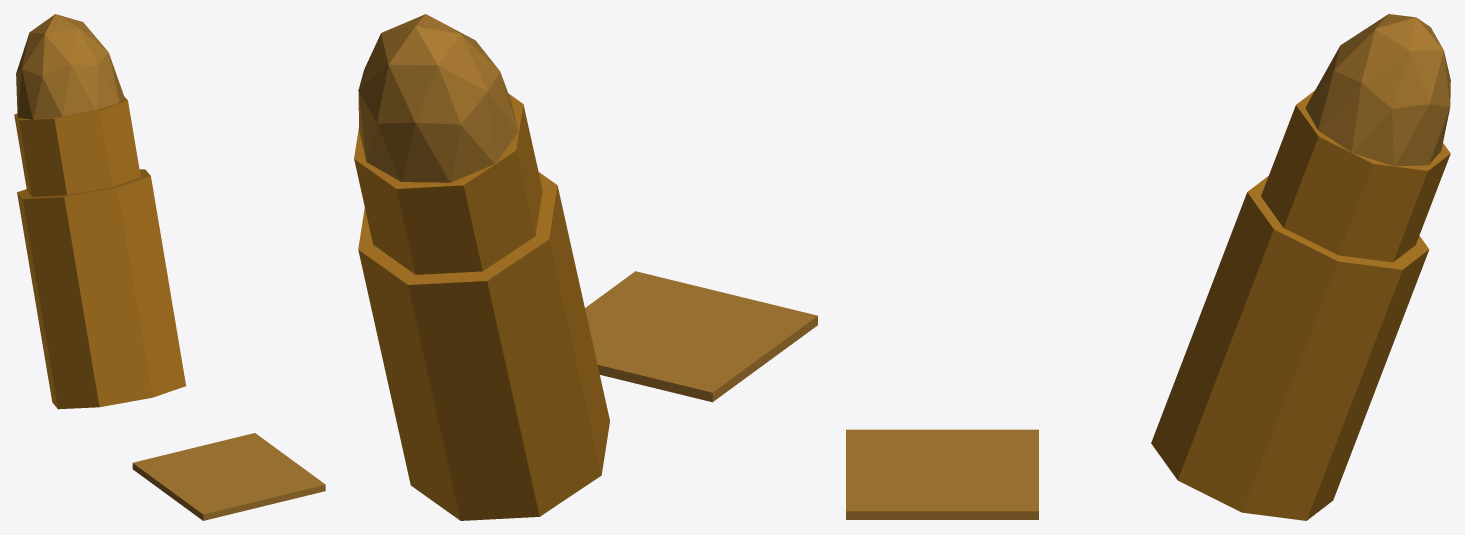
Rendered from powerup.fbx.
The picture shows the model from 3 angles, left to right: view 1: azimuth 30°, elevation 25°; view 2: azimuth 150°, elevation 25°; view 3: azimuth 270°, elevation 25°; orthographic projection. The views are drawn at different scales.
Parts seen in each view (by area): view 1: Bullet, Cube; view 2: Bullet, Cube; view 3: Bullet, Cube.
Boxes of the visible parts, <box> form: Bullet: <box>14,14,185,409</box>; Cube: <box>132,433,325,520</box>; Bullet: <box>354,14,609,520</box>; Cube: <box>585,271,817,402</box>; Bullet: <box>1151,14,1450,520</box>; Cube: <box>846,429,1038,519</box>.
Bounding box in the file's own units: 200 × 553 × 627.
